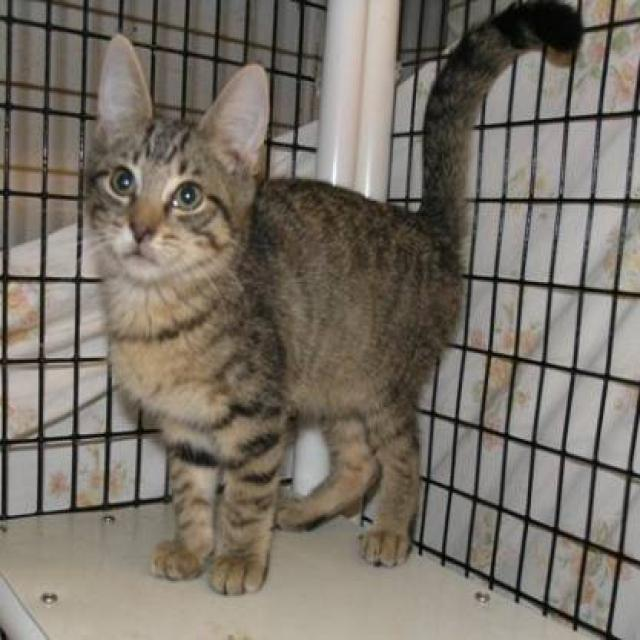cat: (78, 0, 585, 596)
